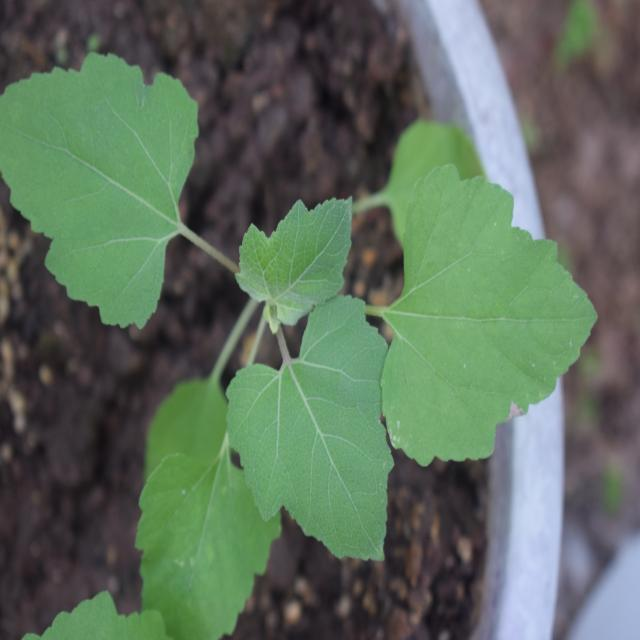cocklebur: (0, 59, 587, 594)
